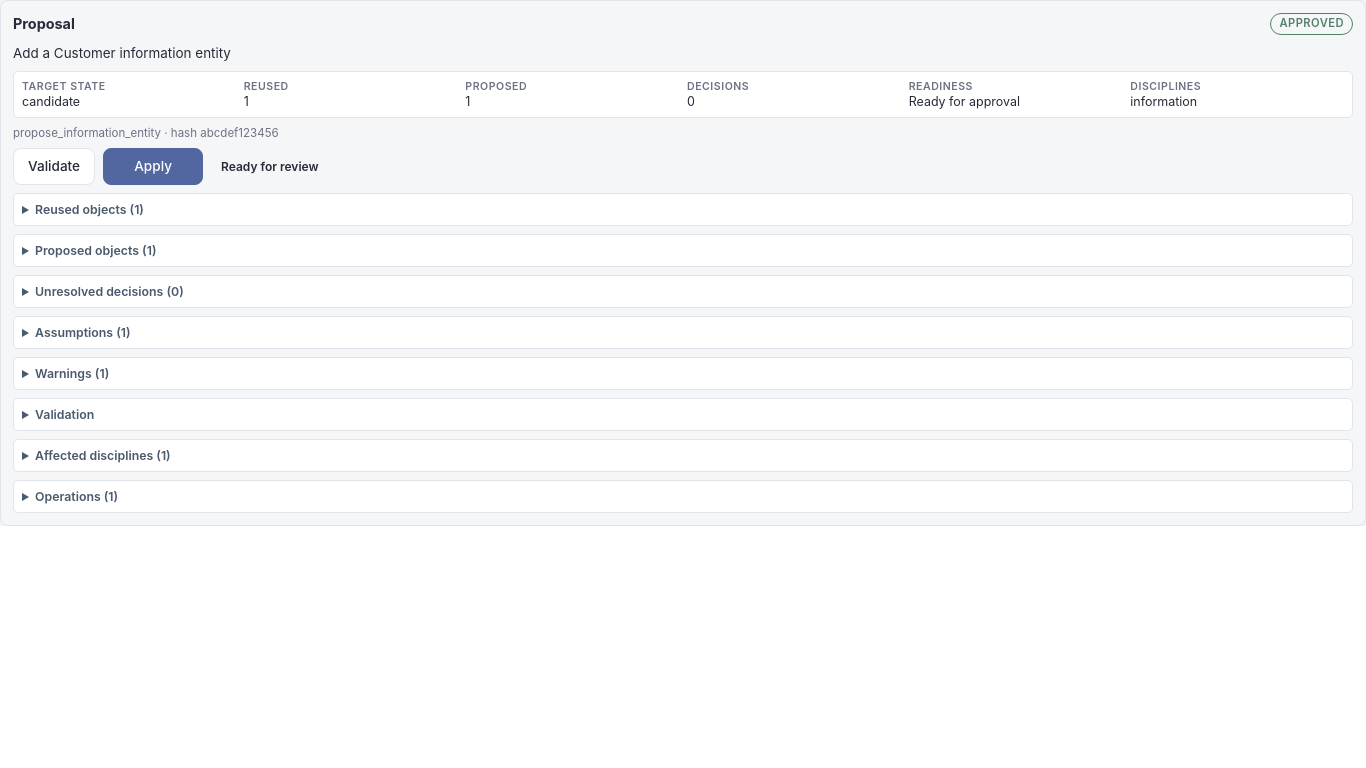
Scenario: ProposalPanel lifecycle › reports a safe failure and keeps no partial success
This screenshot has width=1366, height=768.
Click the button with test id "apply-button": {"x": 153, "y": 166} [103, 148, 203, 185]
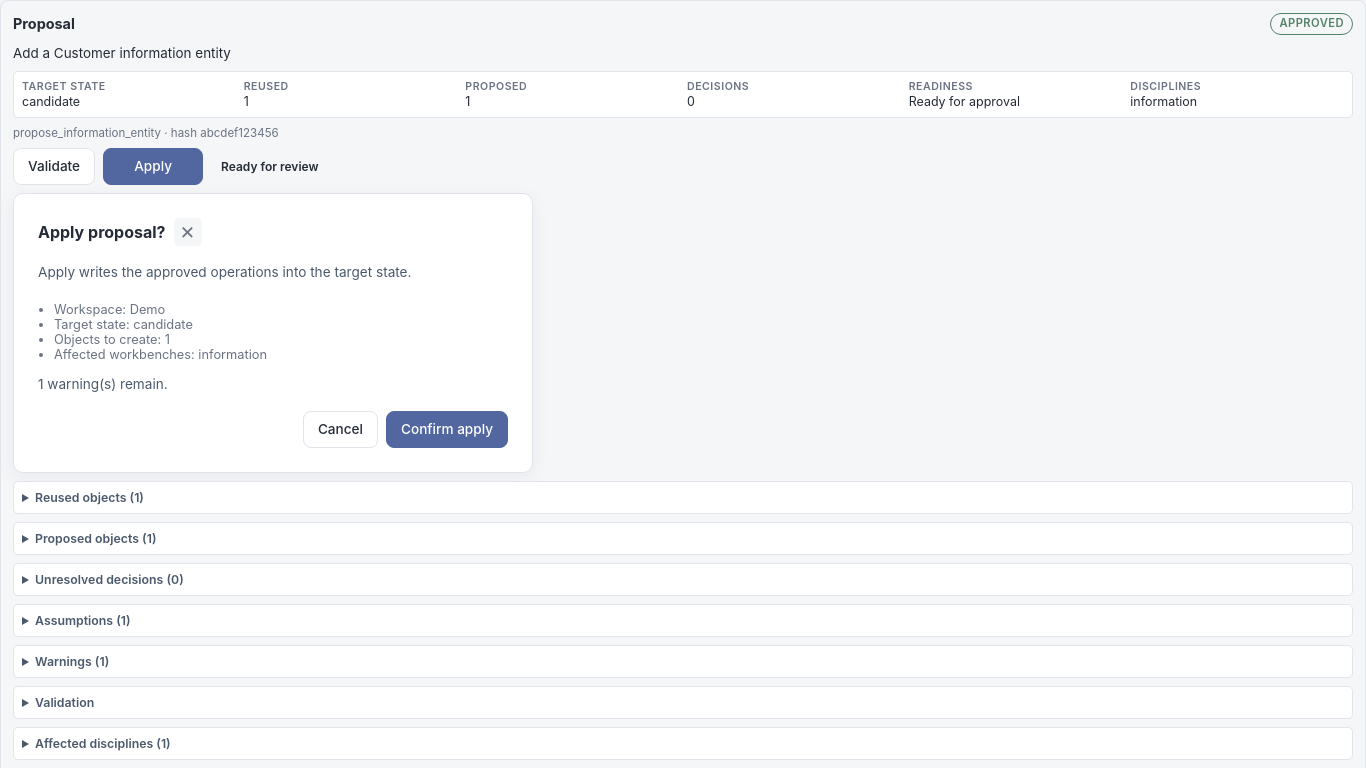
Click the button with test id "confirm-action": {"x": 447, "y": 429} [386, 411, 508, 448]
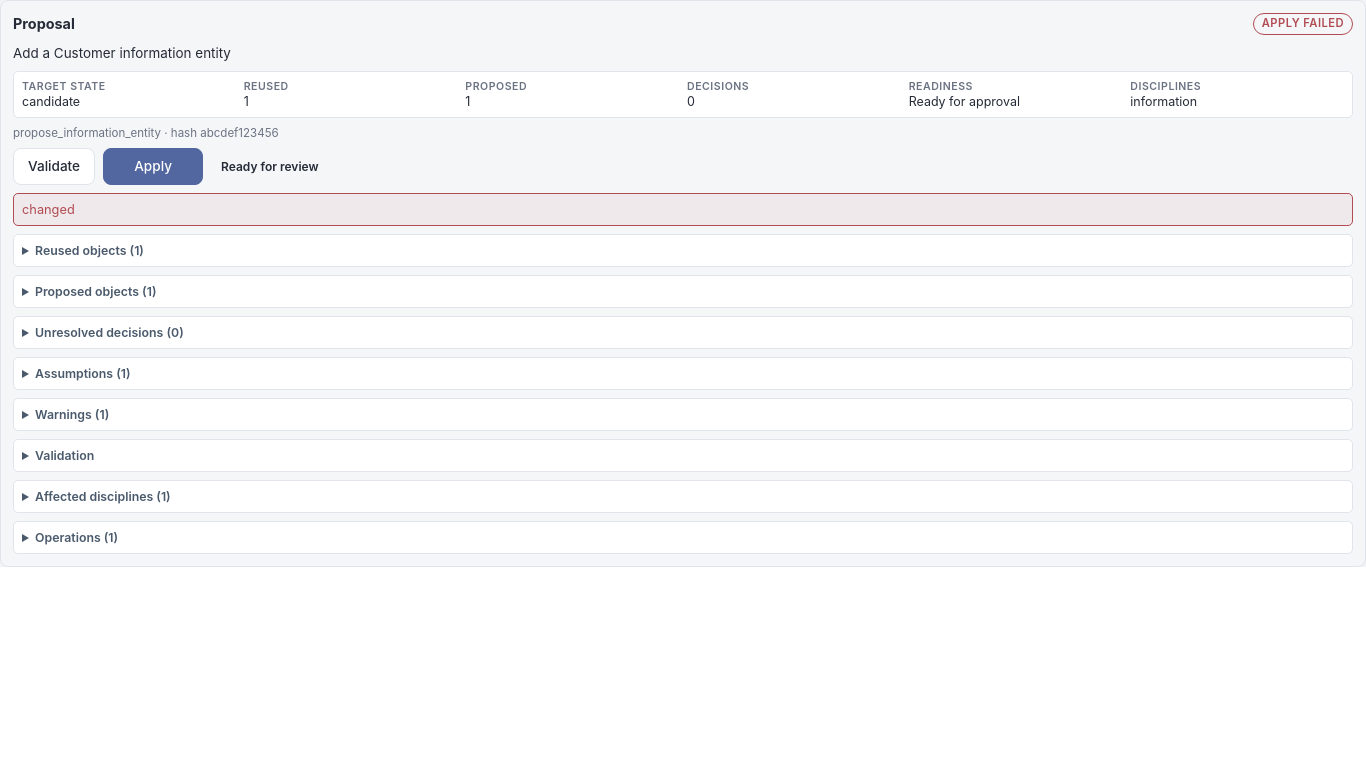
Result: the message "changed" is shown at [13, 193, 1353, 226]
